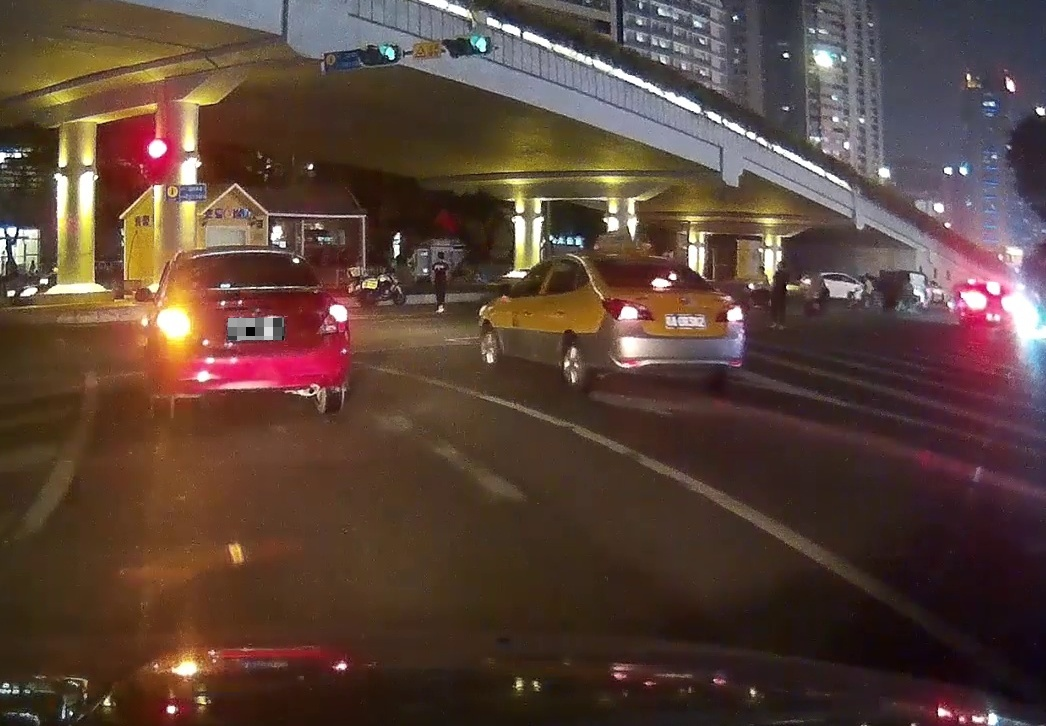L_light: (602, 297, 654, 320), (157, 308, 190, 339)
R_light: (317, 302, 348, 334), (716, 303, 742, 322)
T_light: (233, 250, 256, 259), (651, 278, 673, 287)
night-brake: (591, 251, 744, 392)
night-left: (157, 245, 351, 420)
plate_1: (228, 318, 284, 340)
